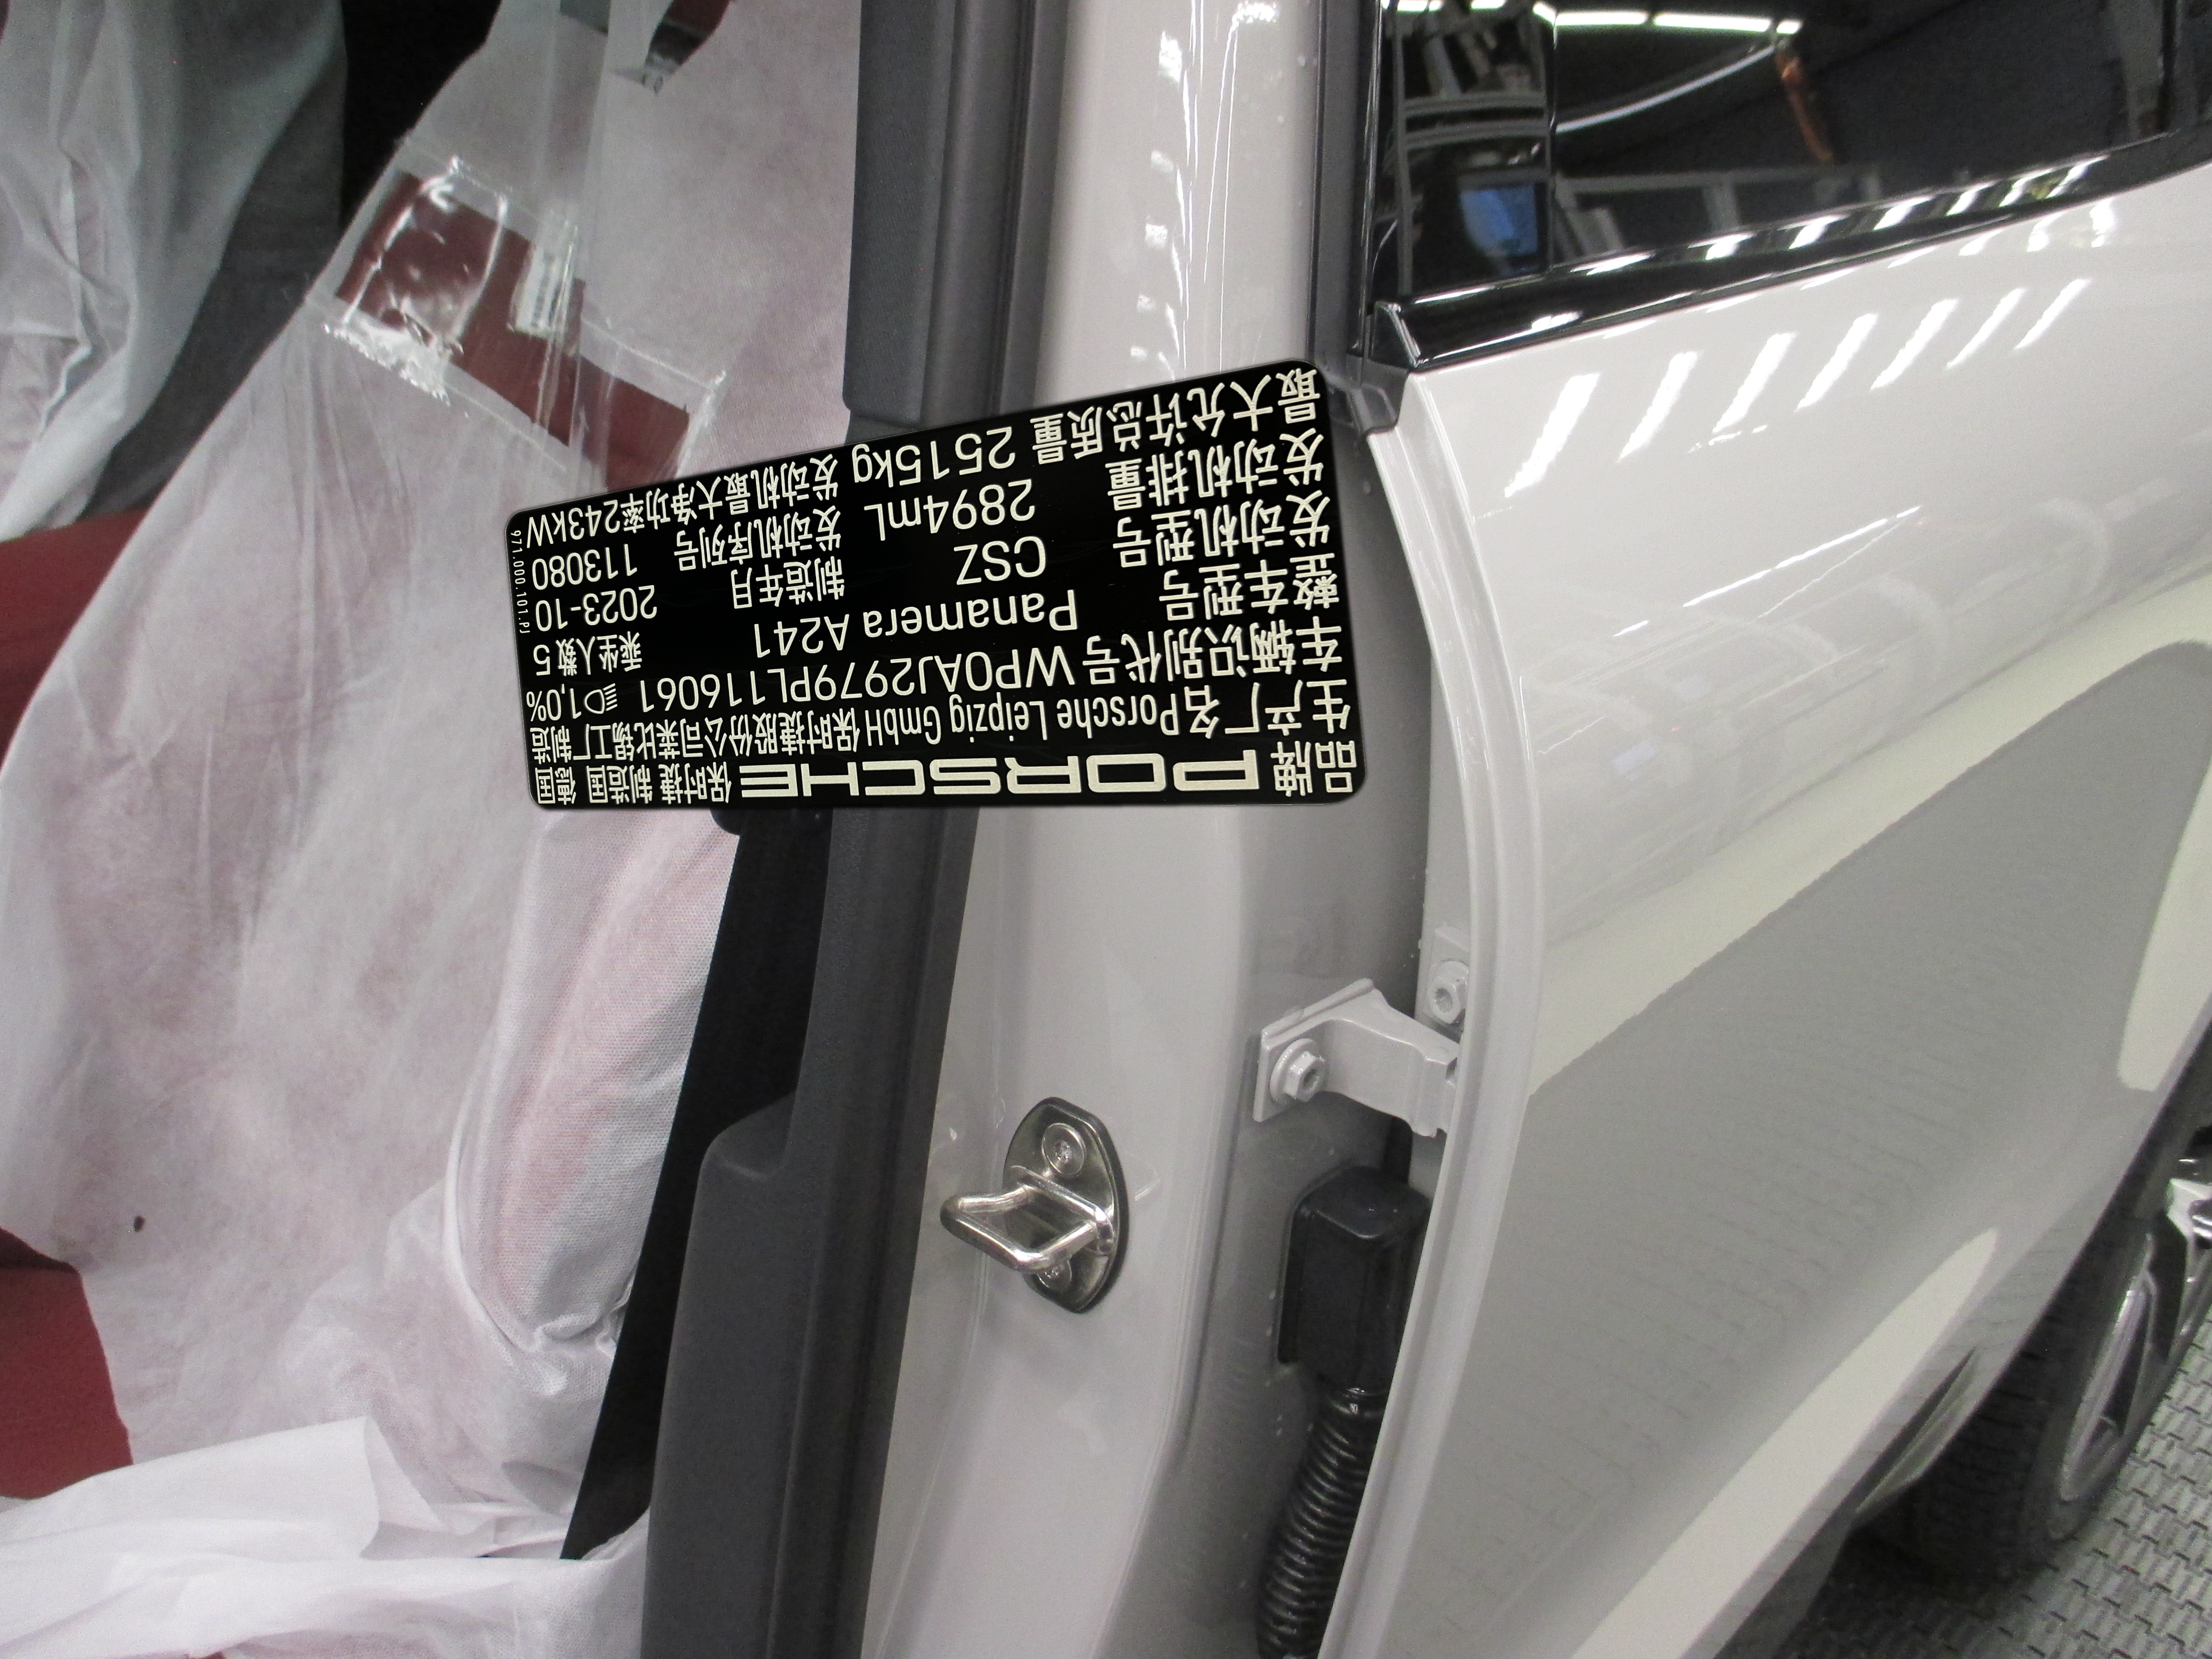Typlabel-China: (505, 359, 1366, 810)
